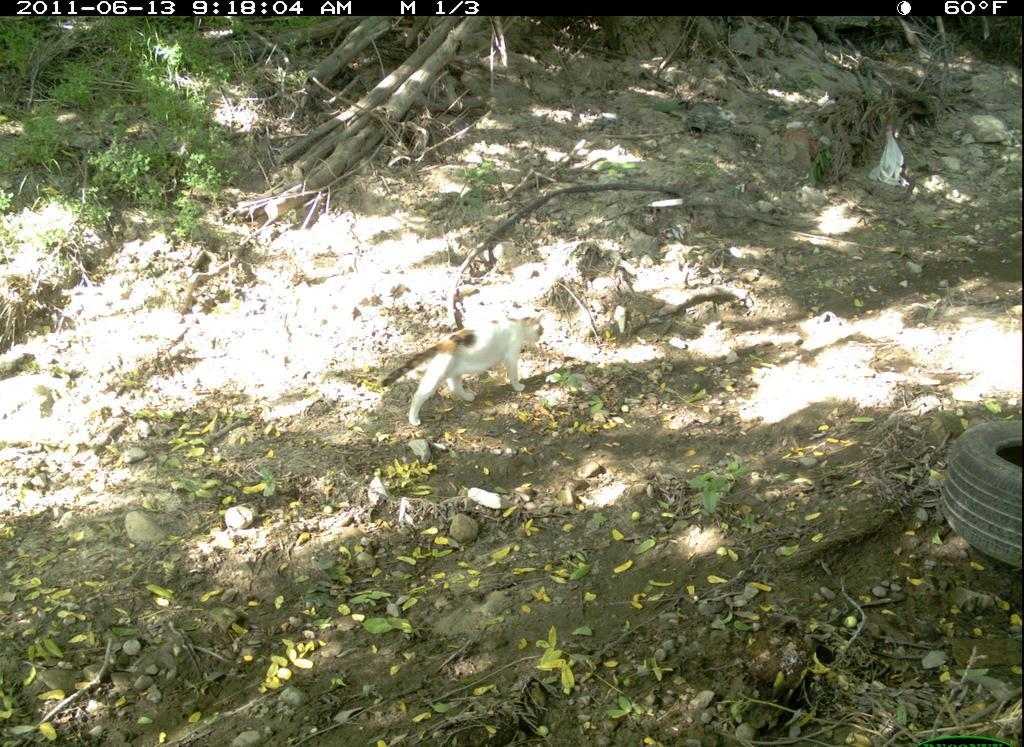cat: (377, 307, 549, 430)
